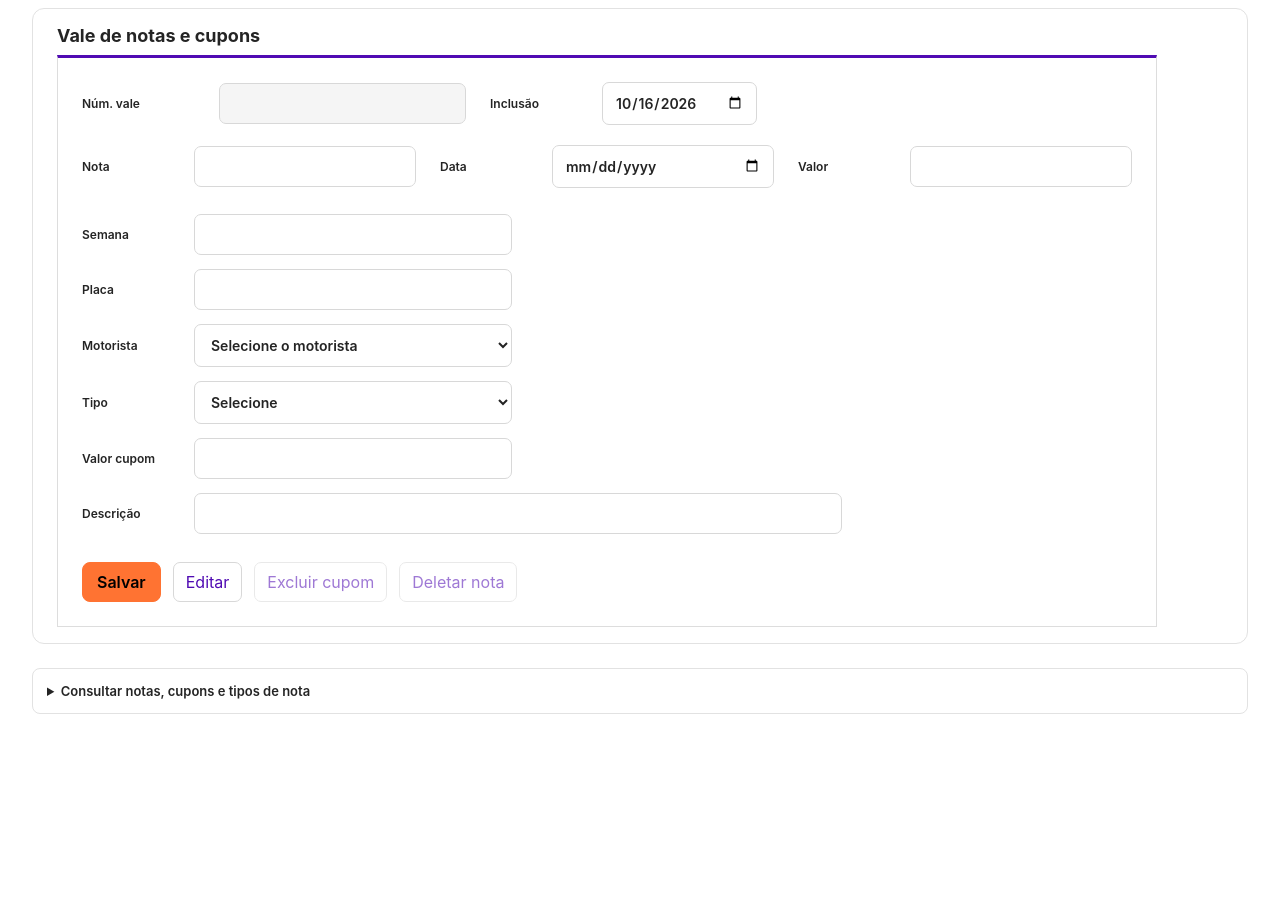
nota existente preenche e protege dados, preservando zeros do número
Check: the button "Salvar" is enabled, box top-left (82, 562), bottom-right (161, 602)
Type "000123" into the field named "Número da nota" at point(305, 166), box top-left (194, 146), bottom-right (416, 187)
Leave the field named "Número da nota", box top-left (194, 146), bottom-right (416, 187)
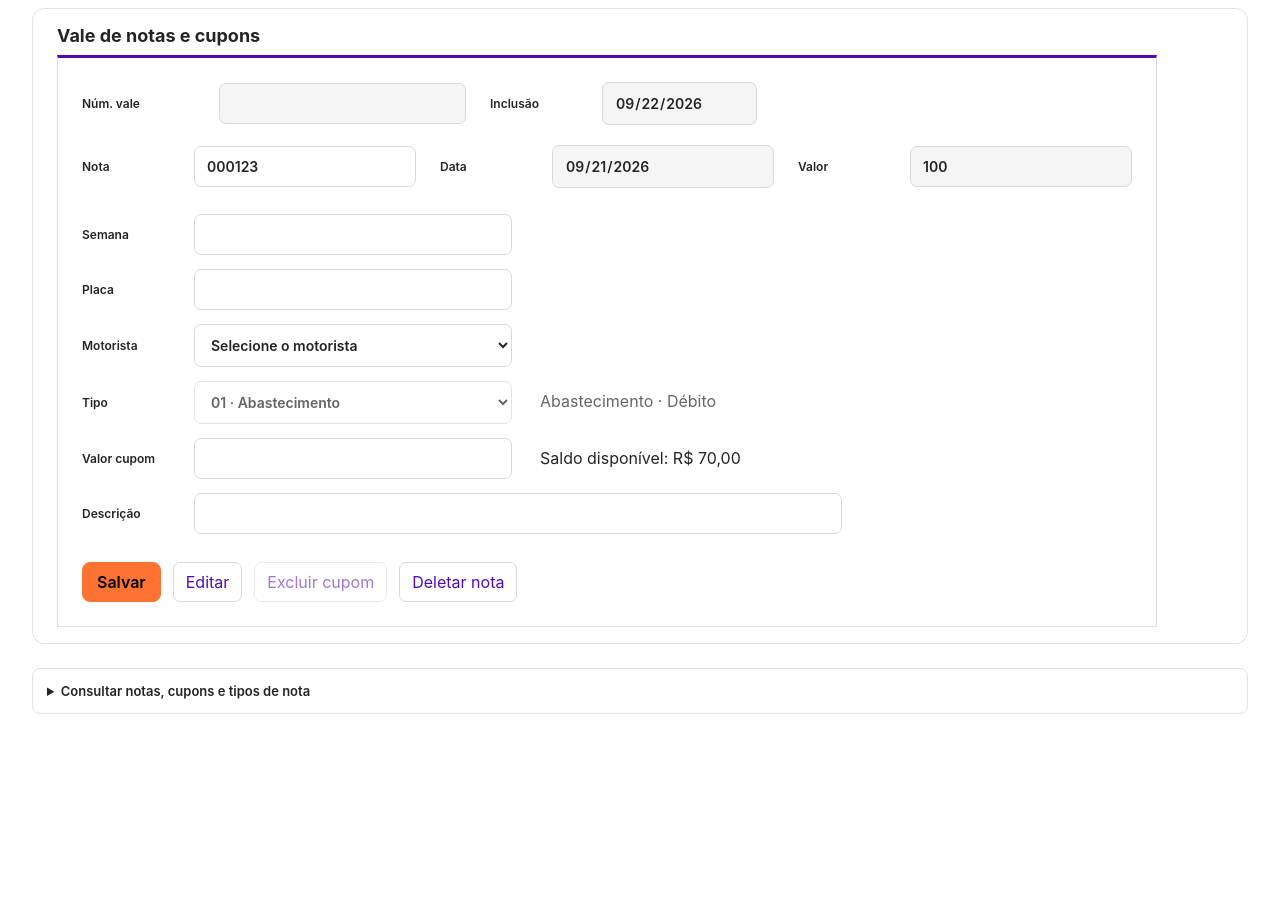
Check: the text "Saldo disponível: R$ 70,00" is shown, box top-left (540, 448), bottom-right (741, 468)
Check: the date field named "Data da nota" holds "2026-09-21", box top-left (552, 145), bottom-right (774, 188)
Type "3926" into the field named "Semana do cupom" at point(353, 234), box top-left (194, 214), bottom-right (512, 255)
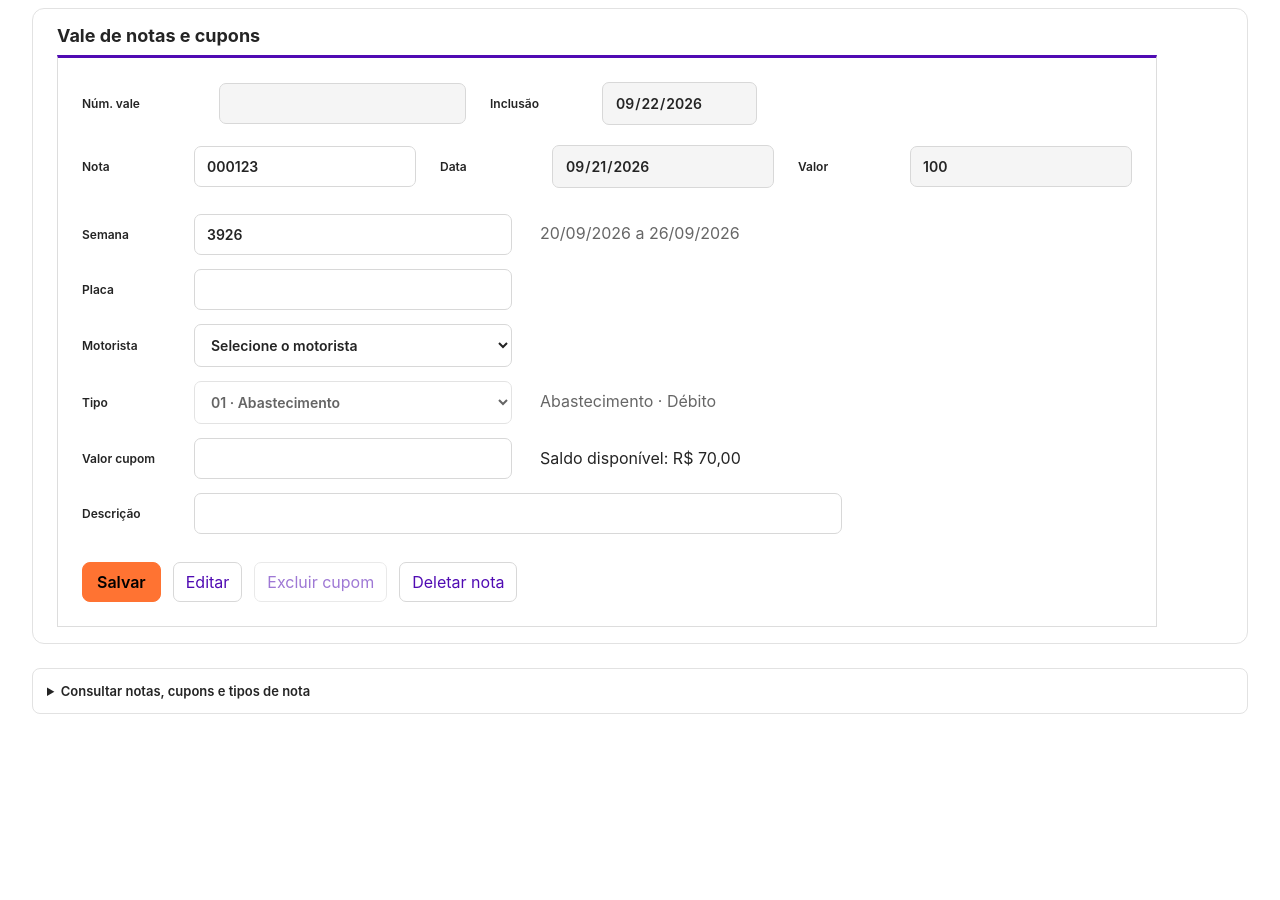
Type "ABC1234" into the field named "Placa do cupom" at point(353, 289), box top-left (194, 269), bottom-right (512, 310)
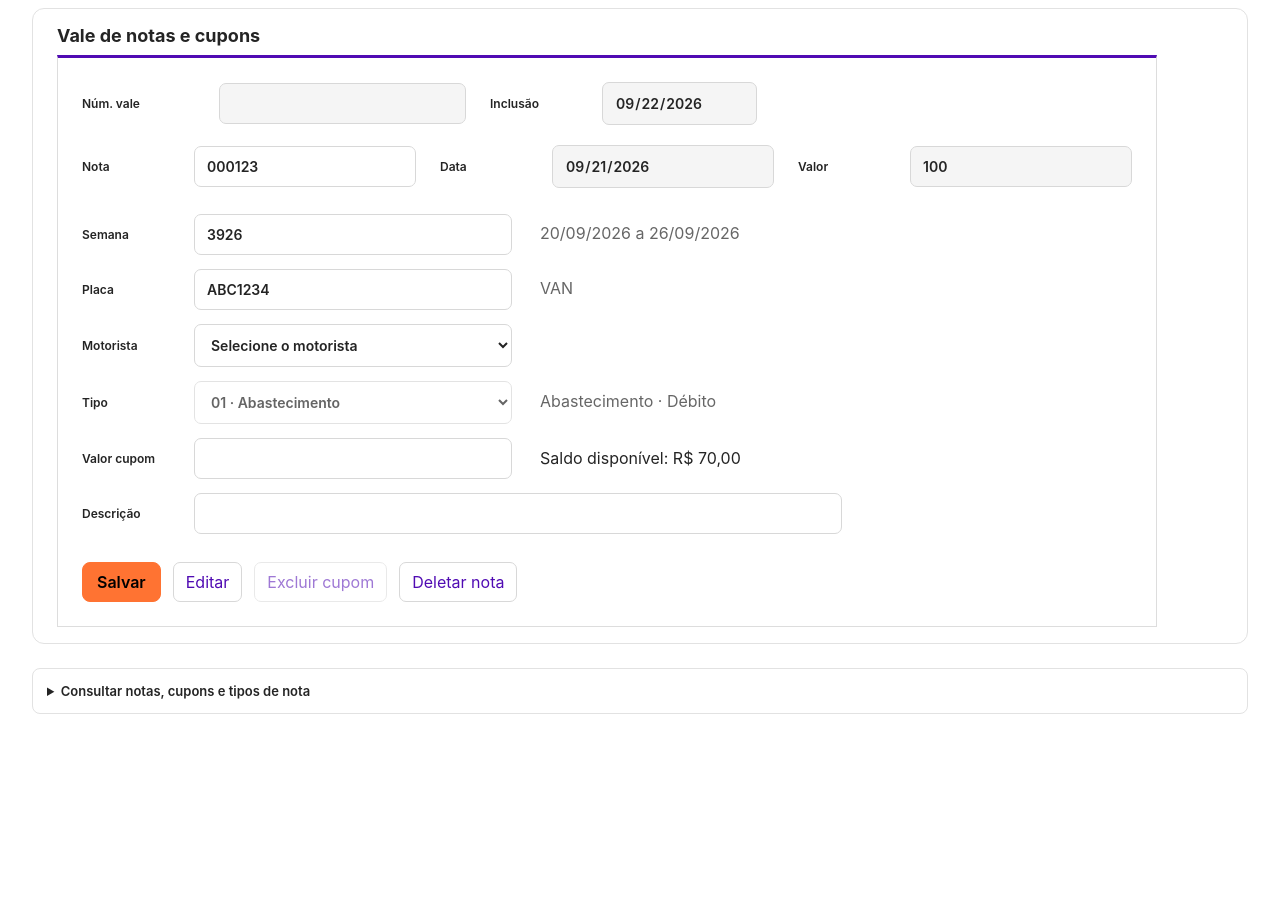
Select "Motorista" in the dropdown named "Motorista do cupom" at point(353, 345), box top-left (194, 324), bottom-right (512, 367)
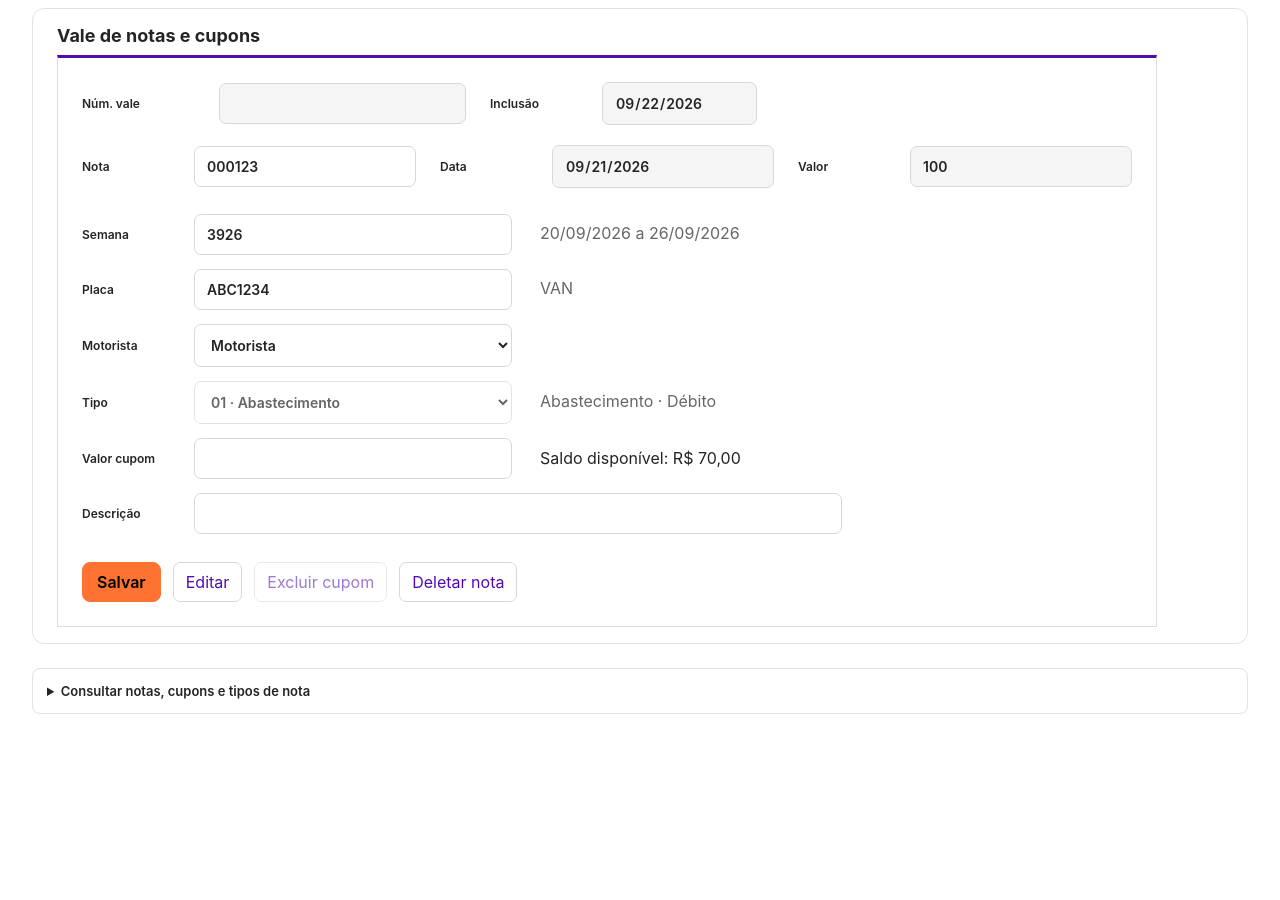
Type "30" into the number field named "Valor do cupom" at point(353, 458), box top-left (194, 438), bottom-right (512, 479)
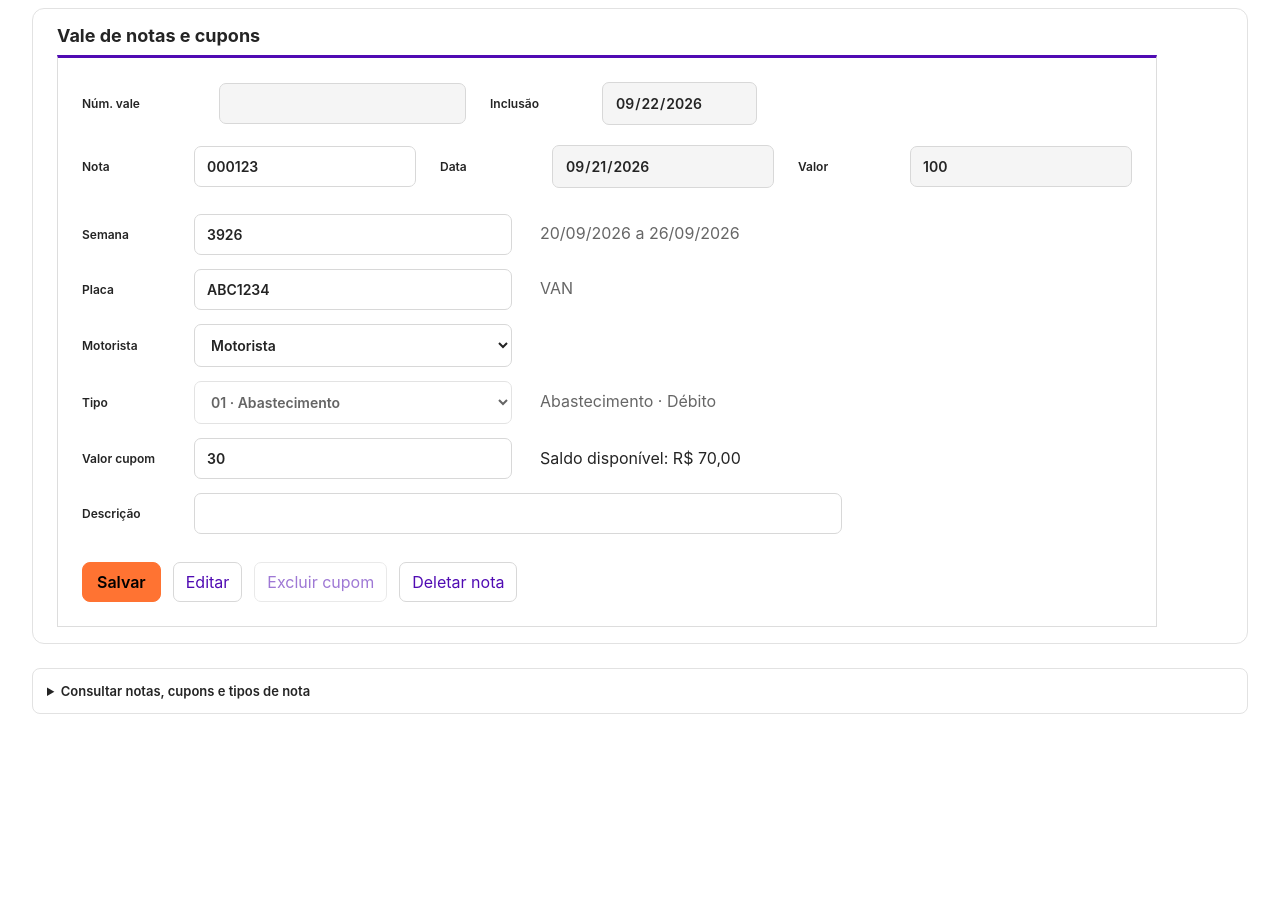
Click the button "Salvar" at point(121, 582), box top-left (82, 562), bottom-right (161, 602)
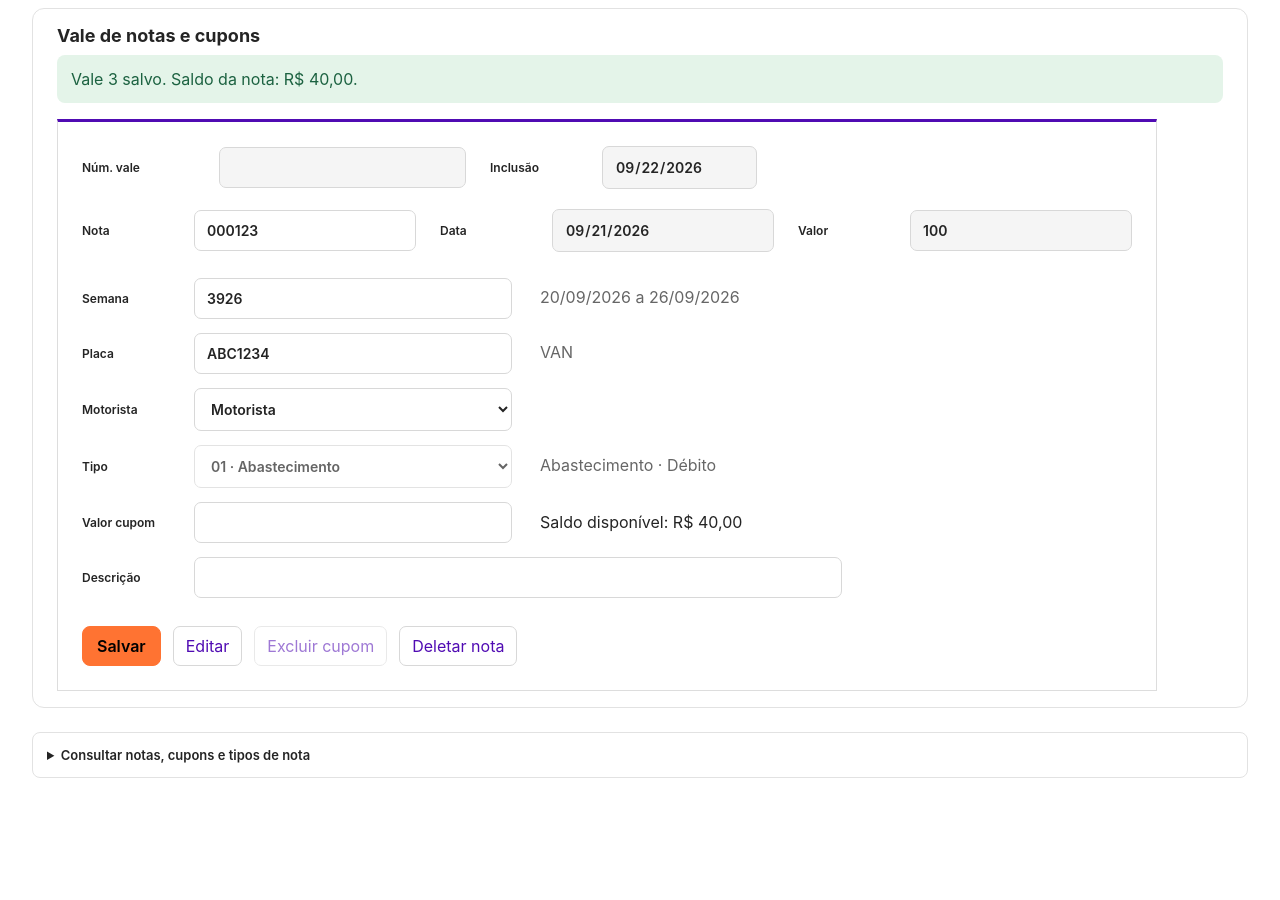
Check: the text "Vale 3 salvo. Saldo da nota: R$ 40,00." is shown, box top-left (57, 55), bottom-right (1223, 103)
